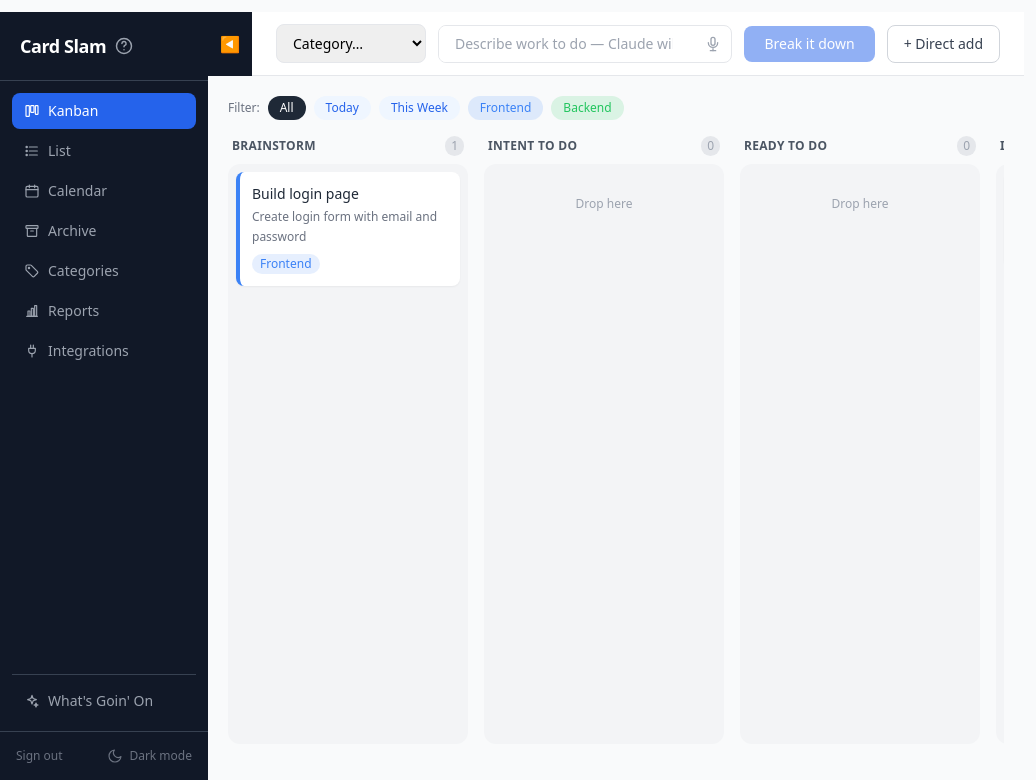
Layout sidebar › clicking toggle hides the sidebar nav links
Click the button named "toggle sidebar". click: (230, 44)
box: [208, 12, 252, 76]
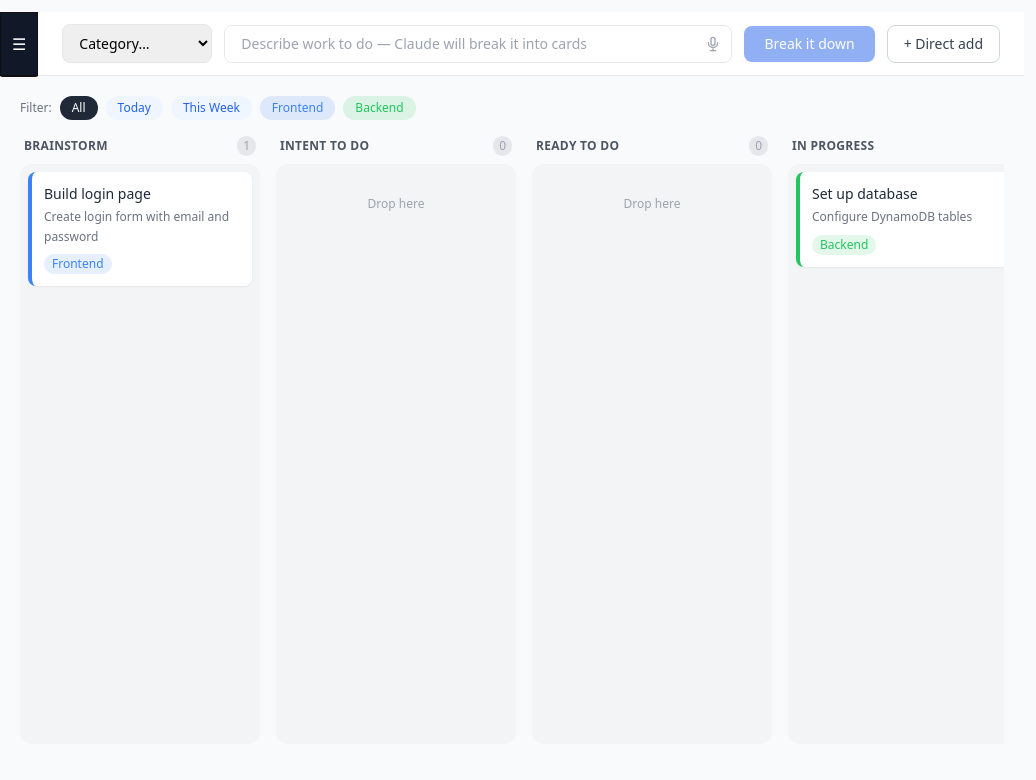
expect the link "Kanban" is gone: met
